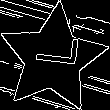L_W: (26, 40, 80, 77)
